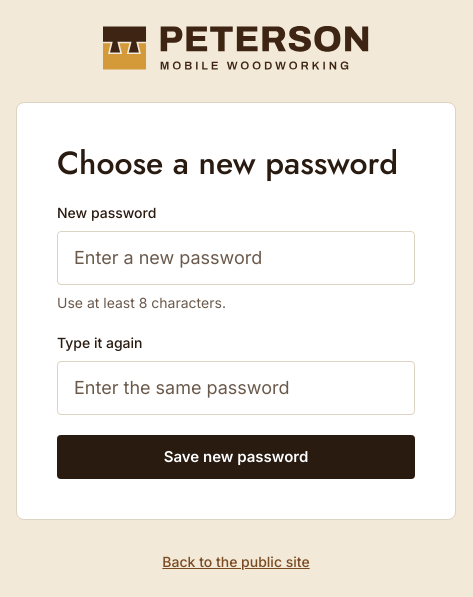
Test: ResetPasswordPage › shows the same-password error on the new password field
Type "new-password-123" into the password field labelled "New password" at (236, 258), box left=57, top=231, right=415, bottom=285
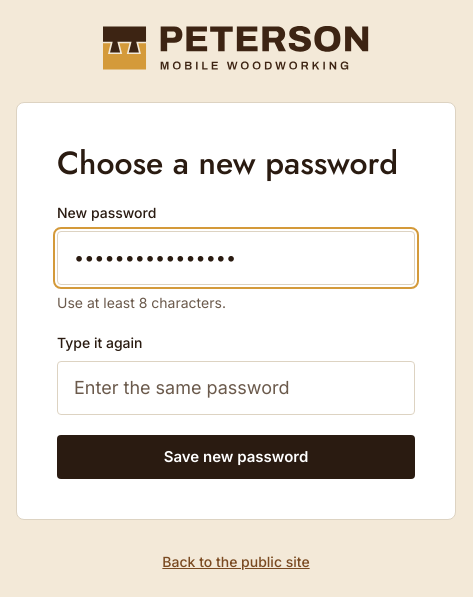
Type "new-password-123" into the password field labelled "Type it again" at (236, 388), box left=57, top=361, right=415, bottom=415
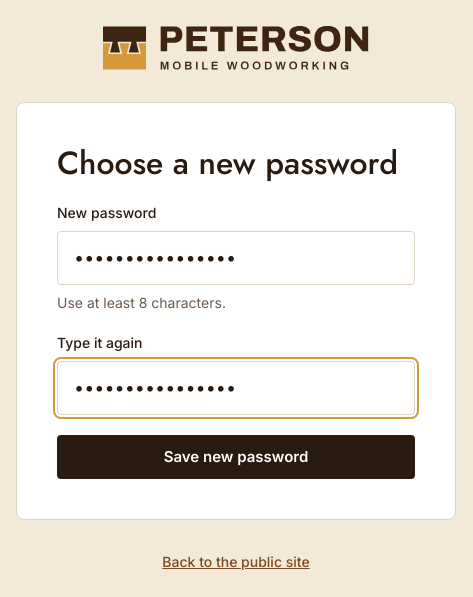
Click the button "Save new password" at (236, 457), box left=57, top=435, right=415, bottom=479
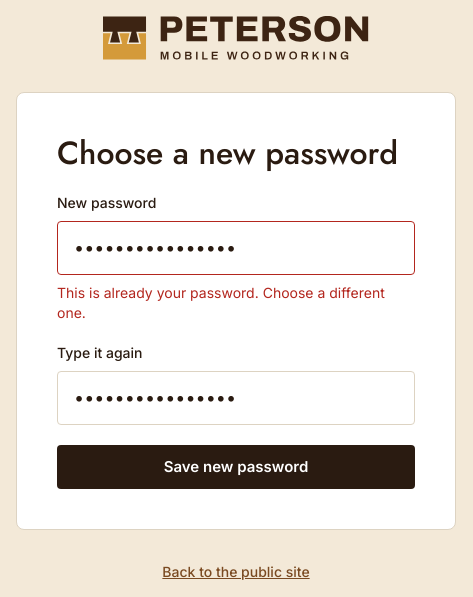
Result: the text "This is already your password. Choose a different one." is shown at left=57, top=283, right=415, bottom=323
